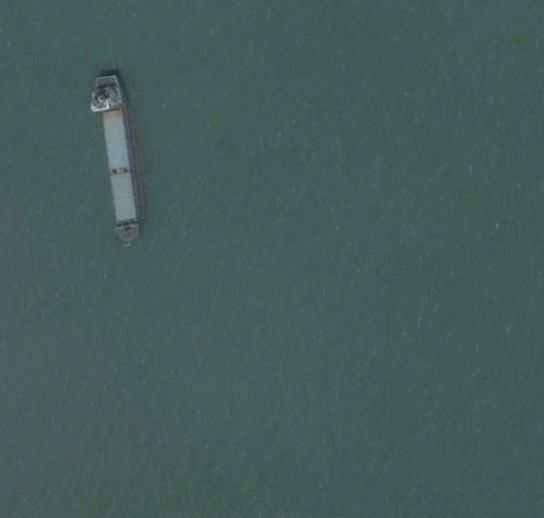boat: (91, 73, 149, 251)
